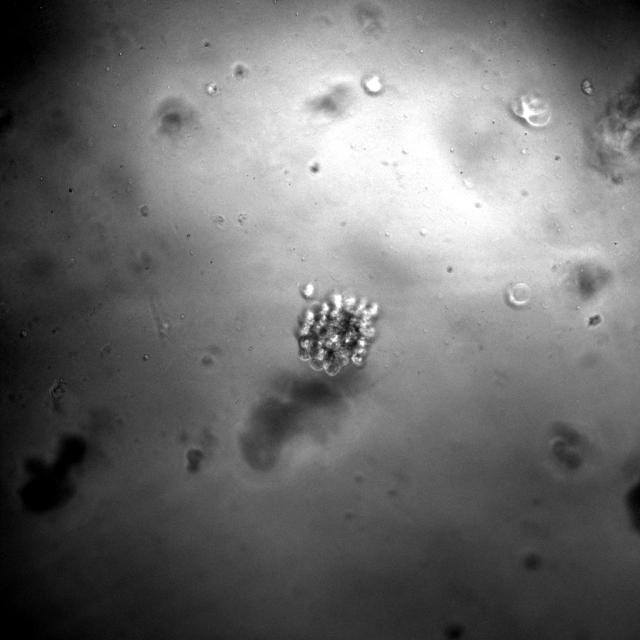organoid: (296, 282, 378, 376)
